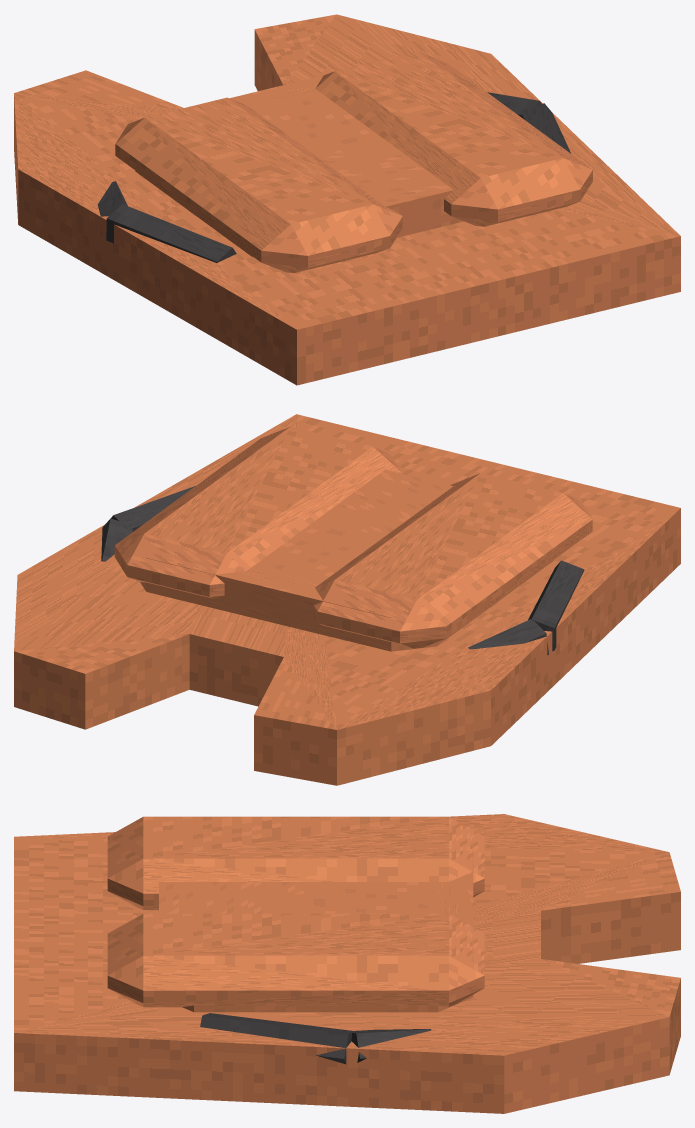
The model's file is flotation_vest.glb.
The picture shows the model from 3 angles, top to bottom: view 1: azimuth 30°, elevation 25°; view 2: azimuth 150°, elevation 25°; view 3: azimuth 270°, elevation 25°; orthographic projection. The views are drawn at different scales.
Parts seen in each view (by area): view 1: block_vest body, block_thick high-visibility flotation pad (×2), block_front protection panel, block_adjustment strap 1 (×2), block_adjustment strap 0 (×2); view 2: block_vest body, block_thick high-visibility flotation pad (×2), block_front protection panel, block_adjustment strap 1 (×2), block_adjustment strap 0 (×2); view 3: block_vest body, block_thick high-visibility flotation pad (×2), block_front protection panel, block_adjustment strap 1, block_adjustment strap 0.
Part boxes in pixels (box(x1,y1,x2,y2)): block_vest body: box(14, 14, 680, 385); block_thick high-visibility flotation pad (×2): box(115, 51, 592, 273); block_front protection panel: box(135, 75, 463, 256); block_adjustment strap 1 (×2): box(106, 103, 571, 262); block_adjustment strap 0 (×2): box(97, 92, 541, 236); block_vest body: box(14, 414, 680, 785); block_thick high-visibility flotation pad (×2): box(114, 426, 592, 648); block_front protection panel: box(140, 469, 553, 651); block_adjustment strap 1 (×2): box(111, 486, 584, 651); block_adjustment strap 0 (×2): box(101, 518, 548, 655); block_vest body: box(14, 814, 680, 1113); block_thick high-visibility flotation pad (×2): box(107, 816, 484, 1007); block_front protection panel: box(159, 837, 473, 1012); block_adjustment strap 1: box(200, 1013, 354, 1064); block_adjustment strap 0: box(351, 1029, 431, 1062).
Bounding box in the file's own units: 0.485 × 0.1002 × 0.5658.
1 material, 1 textured.
